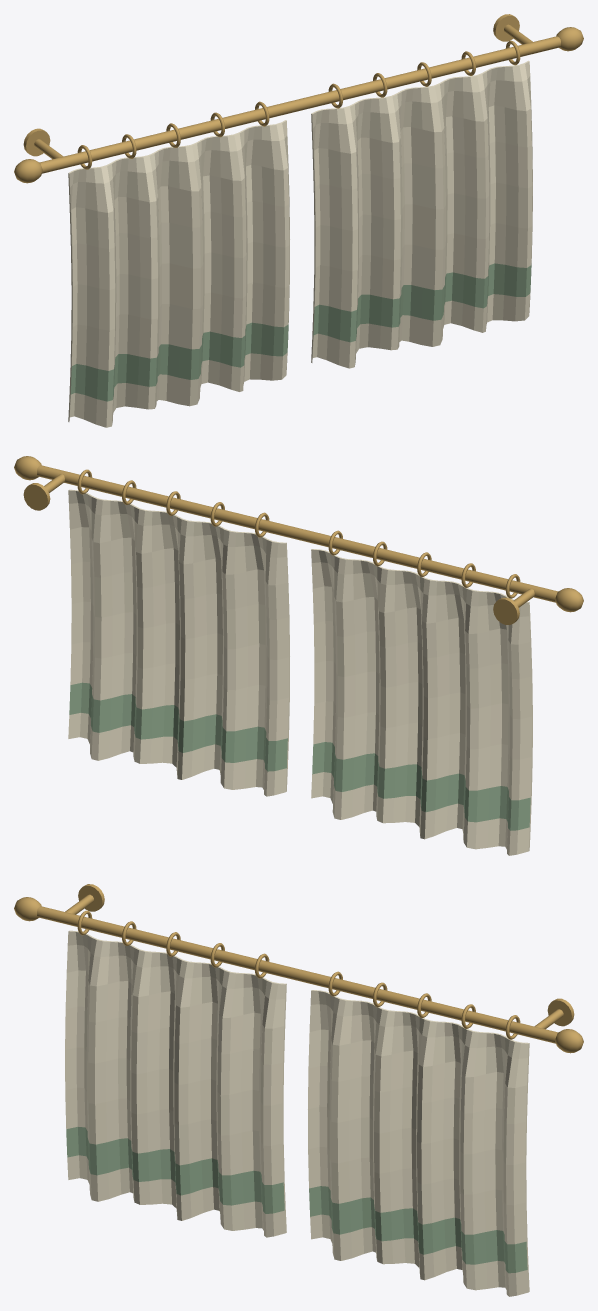
File: curtains_cafe.glb
3 views of the same model, one above another, from view 1: azimuth 30°, elevation 25°; view 2: azimuth 150°, elevation 25°; view 3: azimuth 330°, elevation 25° (orthographic).
Parts seen in each view (by area): view 1: Cafe_Curtain_Right, Cafe_Curtain_Left, Cafe_Curtains_Rod, Cafe_Curtains_Finial_-1; view 2: Cafe_Curtain_Right, Cafe_Curtain_Left, Cafe_Curtains_Rod, Cafe_Curtains_Mounting_Plate_-1, Cafe_Curtains_Mounting_Plate_1, Cafe_Curtains_Finial_-1; view 3: Cafe_Curtain_Right, Cafe_Curtain_Left, Cafe_Curtains_Rod, Cafe_Curtains_Finial_1.
Boxes of the visible parts, x1,y1,x2,y2 form: Cafe_Curtain_Right: [311, 60, 532, 368]; Cafe_Curtain_Left: [68, 120, 289, 427]; Cafe_Curtains_Rod: [39, 36, 560, 173]; Cafe_Curtains_Finial_-1: [14, 159, 42, 183]; Cafe_Curtain_Right: [68, 489, 289, 796]; Cafe_Curtain_Left: [311, 549, 532, 855]; Cafe_Curtains_Rod: [37, 465, 558, 602]; Cafe_Curtains_Mounting_Plate_-1: [493, 597, 519, 624]; Cafe_Curtains_Mounting_Plate_1: [23, 483, 50, 510]; Cafe_Curtains_Finial_-1: [555, 588, 583, 612]; Cafe_Curtain_Right: [308, 990, 529, 1296]; Cafe_Curtain_Left: [65, 930, 286, 1237]; Cafe_Curtains_Rod: [37, 906, 558, 1043]; Cafe_Curtains_Finial_1: [555, 1029, 583, 1053].
Bounding box in the file's own units: 2.47 × 1.17 × 0.2978.
